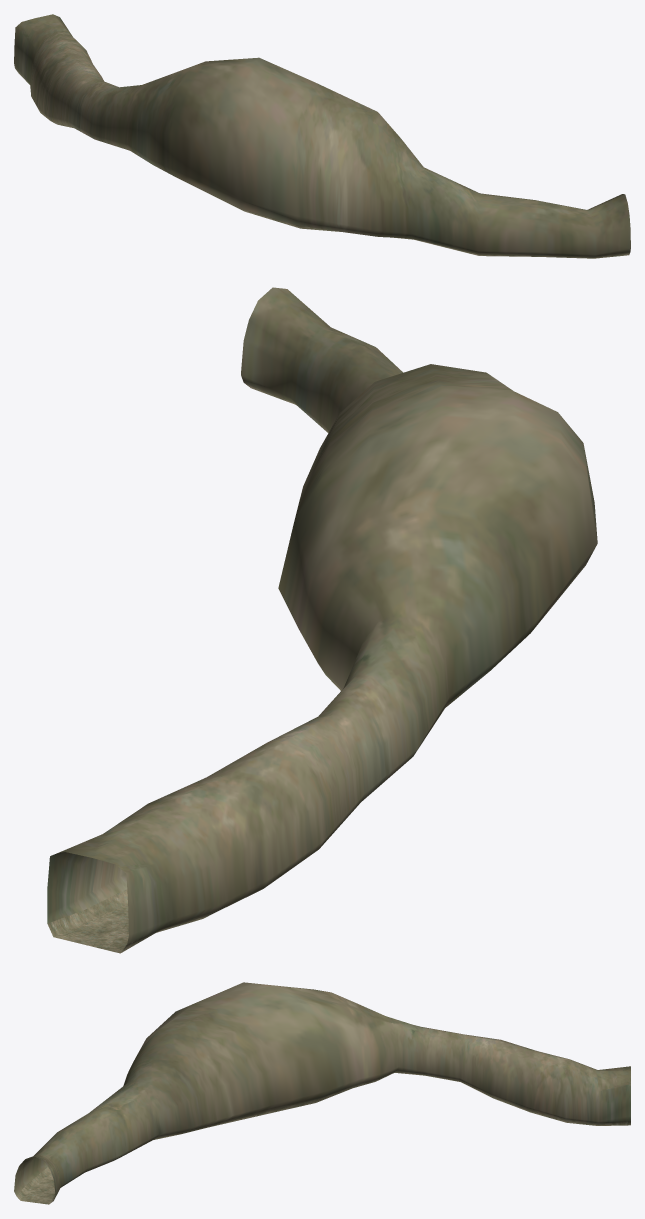
Rendered from OVERHILL_A_01_OH_CAVE_2B02.fbx.
3 renders of one model, top to bottom at view 1: azimuth 30°, elevation 25°; view 2: azimuth 150°, elevation 25°; view 3: azimuth 270°, elevation 25°, orthographic. The views are drawn at different scales.
Visible parts, largest first — view 1: OVERHILL_A_01_OH_CAVE_2B02; view 2: OVERHILL_A_01_OH_CAVE_2B02; view 3: OVERHILL_A_01_OH_CAVE_2B02.
Boxes of the visible parts, x1,y1,x2,y2 form: OVERHILL_A_01_OH_CAVE_2B02: (14,14,630,258); OVERHILL_A_01_OH_CAVE_2B02: (47,287,597,953); OVERHILL_A_01_OH_CAVE_2B02: (14,982,630,1204).
Bounding box in the file's own units: 202052 × 96187 × 399278.
1 material, 1 textured.
